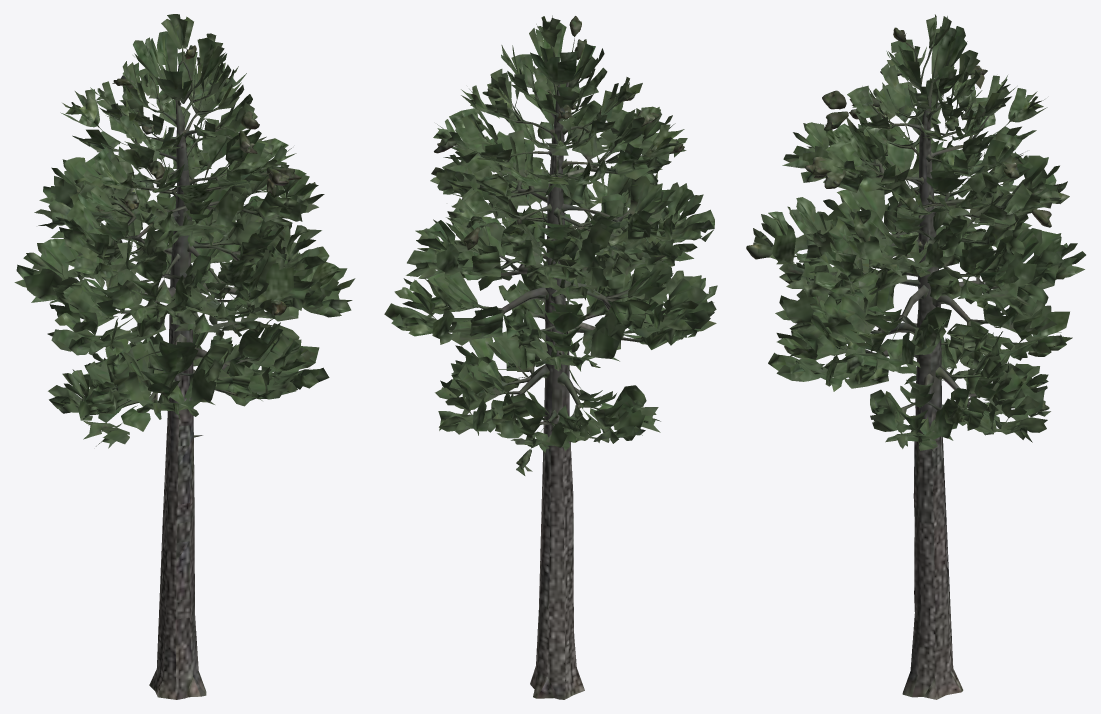
The model's file is tree.glb.
The picture shows the model from 3 angles, left to right: view 1: azimuth 30°, elevation 25°; view 2: azimuth 150°, elevation 25°; view 3: azimuth 270°, elevation 25°; orthographic projection.
Visible parts, largest first — view 1: tripo_node_a7d0729d-1e6e-484a-bb20-d153e151f9f2; view 2: tripo_node_a7d0729d-1e6e-484a-bb20-d153e151f9f2; view 3: tripo_node_a7d0729d-1e6e-484a-bb20-d153e151f9f2.
Part boxes in pixels (bbox=[...]): tripo_node_a7d0729d-1e6e-484a-bb20-d153e151f9f2: bbox=[14, 14, 355, 699]; tripo_node_a7d0729d-1e6e-484a-bb20-d153e151f9f2: bbox=[384, 15, 717, 699]; tripo_node_a7d0729d-1e6e-484a-bb20-d153e151f9f2: bbox=[746, 14, 1085, 699].
Size of the model in its own units: 0.4438 by 0.9995 by 0.4584.
Materials: 1 (1 with a texture image).
